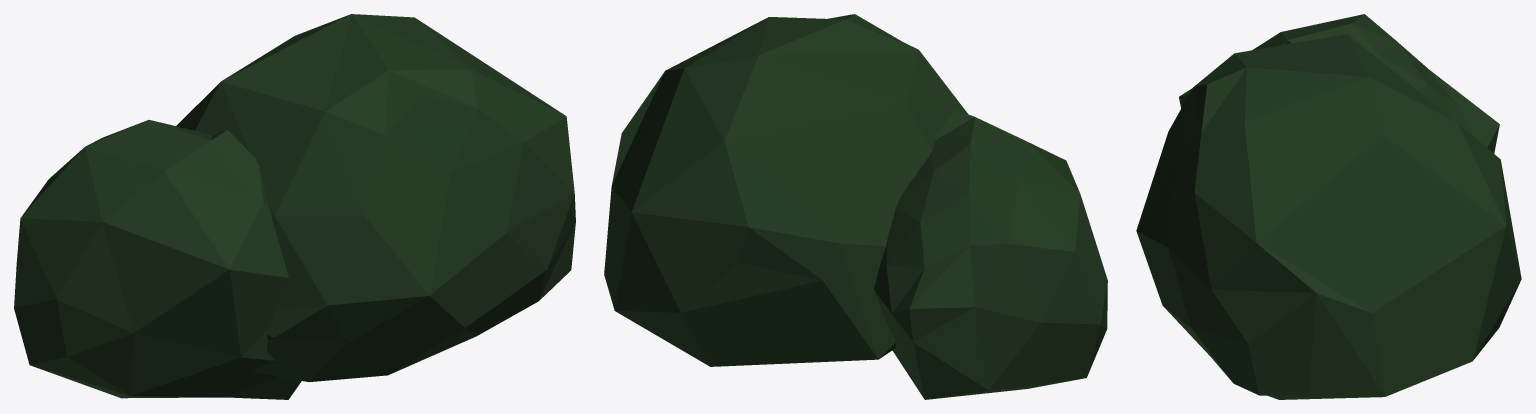
File: SM_TestBush1.fbx
3 renders of one model, left to right at view 1: azimuth 30°, elevation 25°; view 2: azimuth 150°, elevation 25°; view 3: azimuth 270°, elevation 25°, orthographic. The views are drawn at different scales.
Parts seen in each view (by area): view 1: pPlatonic4, pasted__pPlatonic4; view 2: pPlatonic4, pasted__pPlatonic4; view 3: pPlatonic4, pasted__pPlatonic4.
Boxes of the visible parts, bbox=[...] form: pPlatonic4: bbox=[176, 14, 575, 382]; pasted__pPlatonic4: bbox=[14, 120, 301, 399]; pPlatonic4: bbox=[604, 14, 968, 366]; pasted__pPlatonic4: bbox=[874, 110, 1107, 399]; pPlatonic4: bbox=[1136, 34, 1521, 399]; pasted__pPlatonic4: bbox=[1179, 14, 1499, 153].
Bounding box in the file's own units: 4.89 × 2.74 × 3.3.
